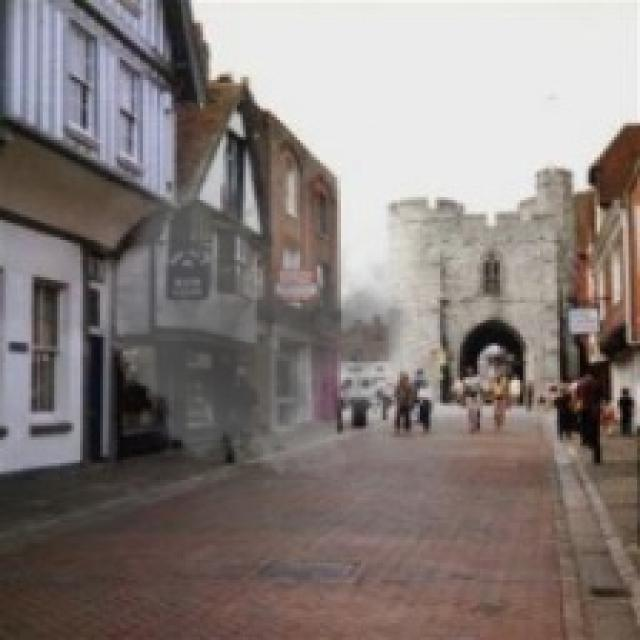smoke: (77, 126, 440, 494)
